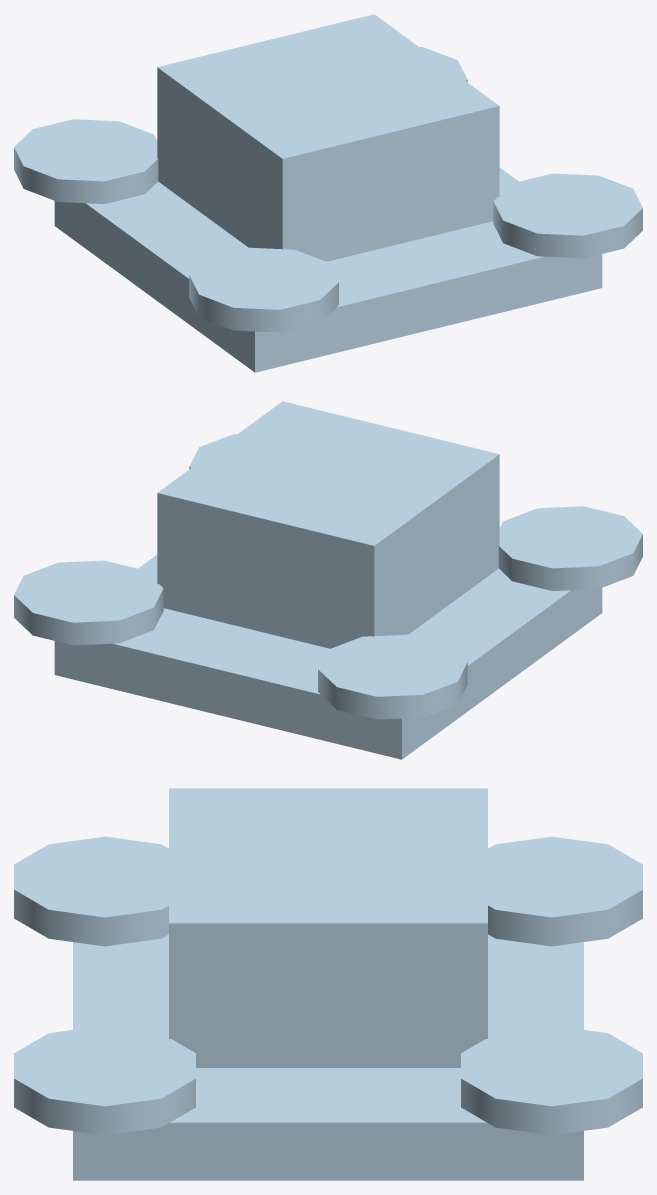
The model's file is drone_mapper.gltf.
3 views of the same model, one above another, from view 1: azimuth 30°, elevation 25°; view 2: azimuth 150°, elevation 25°; view 3: azimuth 270°, elevation 25° (orthographic). The views are drawn at different scales.
Parts seen in each view (by area): view 1: drone_mapper; view 2: drone_mapper; view 3: drone_mapper.
Part boxes in pixels (x1=…): drone_mapper: x1=14, y1=14, x2=642, y2=372; drone_mapper: x1=14, y1=401, x2=642, y2=759; drone_mapper: x1=14, y1=788, x2=642, y2=1180.
Size of the model in its own units: 1 by 0.375 by 0.9853.
